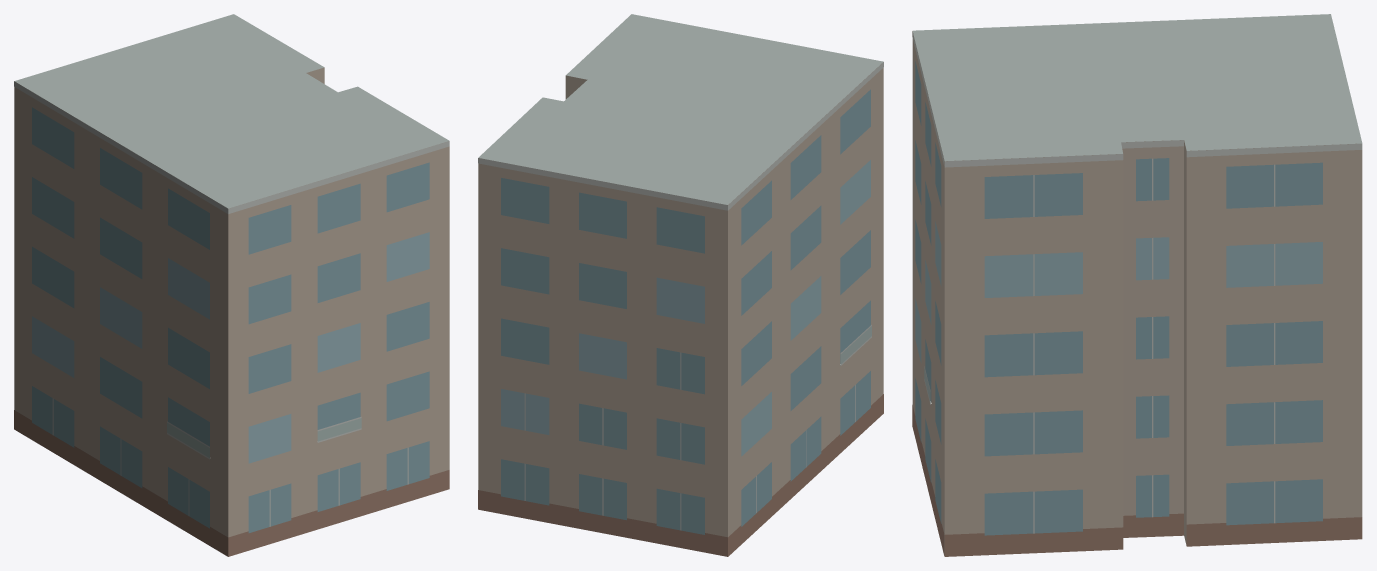
The model's file is survey-upis-32653267.glb.
3 renders of one model, left to right at view 1: azimuth 30°, elevation 25°; view 2: azimuth 150°, elevation 25°; view 3: azimuth 270°, elevation 25°, orthographic. The views are drawn at different scales.
Visible parts, largest first — view 1: survey-upis-32653267.tmp; view 2: survey-upis-32653267.tmp; view 3: survey-upis-32653267.tmp.
Part boxes in pixels (x1,y1,x2,y2): survey-upis-32653267.tmp: (14,14,449,556); survey-upis-32653267.tmp: (478,14,883,556); survey-upis-32653267.tmp: (912,14,1362,556).
Bounding box in the file's own units: 12.17 × 15.25 × 15.73.
